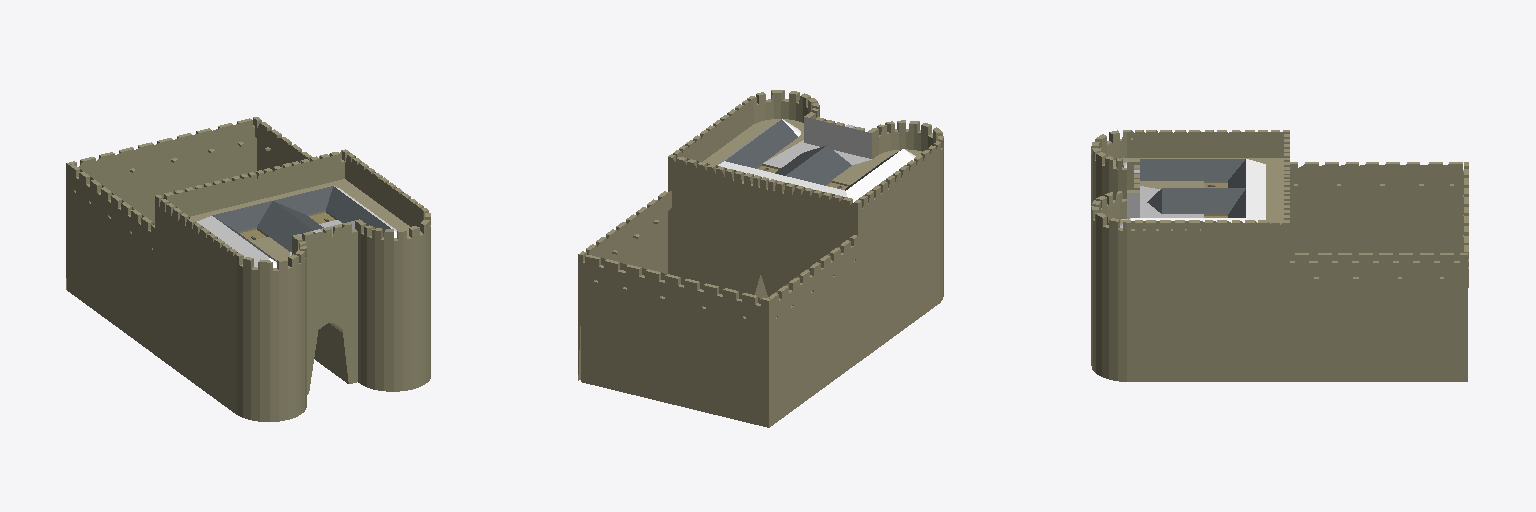
The model's file is castelo.obj.
3 renders of one model, left to right at view 1: azimuth 30°, elevation 25°; view 2: azimuth 150°, elevation 25°; view 3: azimuth 270°, elevation 25°, orthographic.
Visible parts, largest first — view 1: Stone_Coursed_Rough, Duplicate00, Duplicate01, Roofing_Slate_Dark, Duplicate03, FrontColor; view 2: Stone_Coursed_Rough, Duplicate01, Duplicate00, Duplicate03, Roofing_Slate_Dark, Mesh2, FrontColor; view 3: Stone_Coursed_Rough, Duplicate03, Duplicate00, Roofing_Slate_Dark, FrontColor, Mesh2.
Boxes of the visible parts, x1,y1,x2,y2 form: Stone_Coursed_Rough: [155, 149, 430, 421]; Duplicate00: [67, 164, 154, 354]; Duplicate01: [66, 118, 254, 289]; Roofing_Slate_Dark: [212, 186, 390, 261]; Duplicate03: [253, 117, 311, 173]; FrontColor: [197, 186, 396, 383]; Stone_Coursed_Rough: [668, 90, 943, 362]; Duplicate01: [581, 255, 771, 427]; Duplicate00: [768, 235, 857, 427]; Duplicate03: [578, 191, 671, 380]; Roofing_Slate_Dark: [725, 119, 900, 190]; Mesh2: [763, 117, 871, 167]; FrontColor: [717, 119, 915, 202]; Stone_Coursed_Rough: [1091, 130, 1289, 381]; Duplicate03: [1270, 253, 1467, 381]; Duplicate00: [1290, 162, 1463, 259]; Roofing_Slate_Dark: [1140, 159, 1245, 217]; FrontColor: [1120, 159, 1265, 227]; Mesh2: [1121, 168, 1203, 219].
Size of the model in its own units: 16.21 by 12.93 by 27.7.